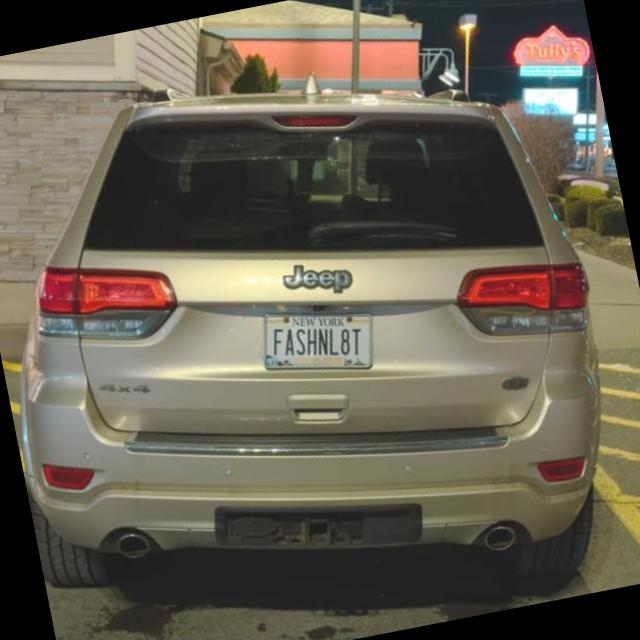LicensePlate: (262, 312, 373, 369)
